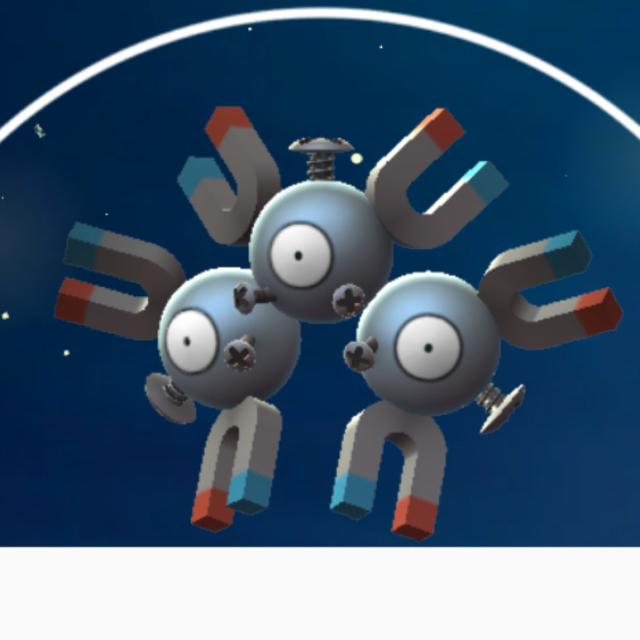Magneton: (110, 124, 550, 480)
